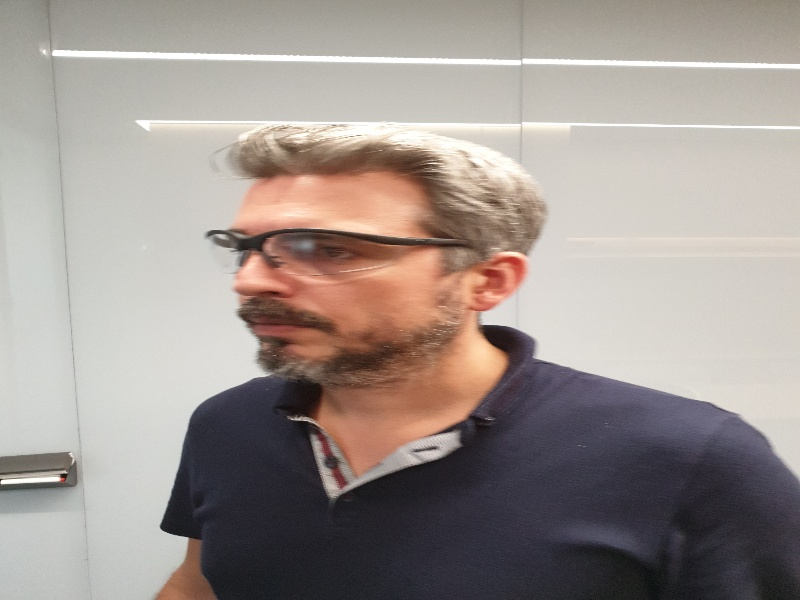Gozluk: (205, 228, 479, 281)
